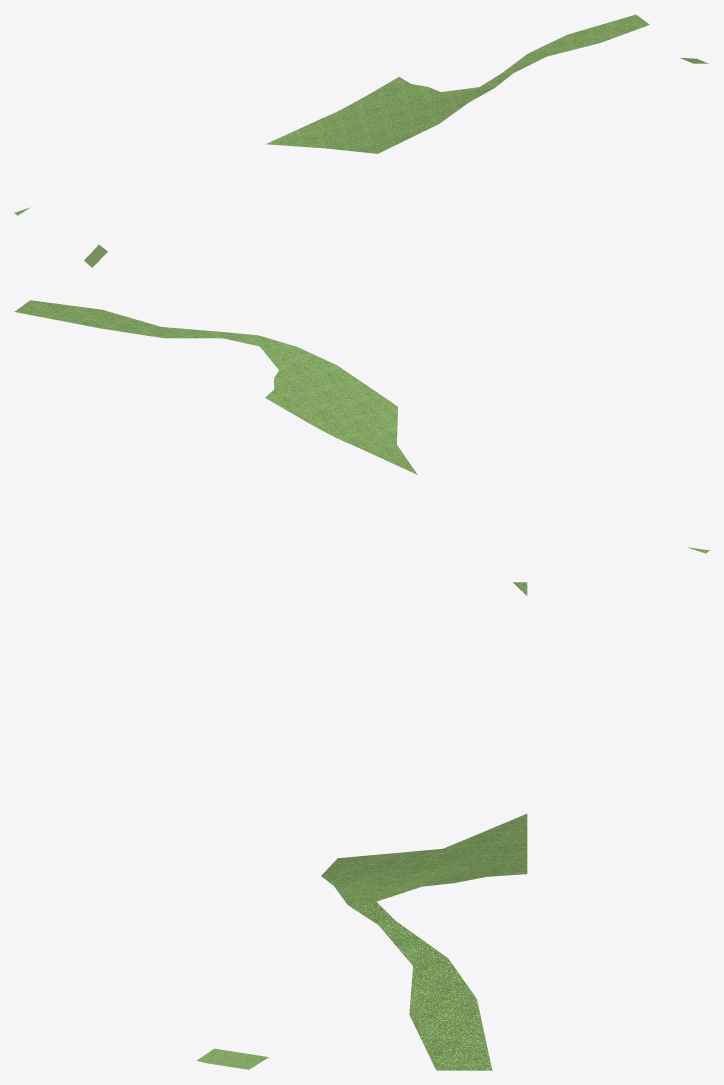
The model's file is kd_stage_135fe0_0_6_bounded.glb.
The picture shows the model from 3 angles, top to bottom: view 1: azimuth 30°, elevation 25°; view 2: azimuth 150°, elevation 25°; view 3: azimuth 270°, elevation 25°; orthographic projection. The views are drawn at different scales.
Parts seen in each view (by area): view 1: kd_stage_135fe0_0_6_bounded; view 2: kd_stage_135fe0_0_6_bounded; view 3: kd_stage_135fe0_0_6_bounded.
Part boxes in pixels (x1,y1,x2,y2): kd_stage_135fe0_0_6_bounded: (14,14,708,215); kd_stage_135fe0_0_6_bounded: (14,244,709,553); kd_stage_135fe0_0_6_bounded: (197,582,527,1070).
Bounding box in the file's own units: 82.23 × 7.7 × 19.22.
1 material, 1 textured.
